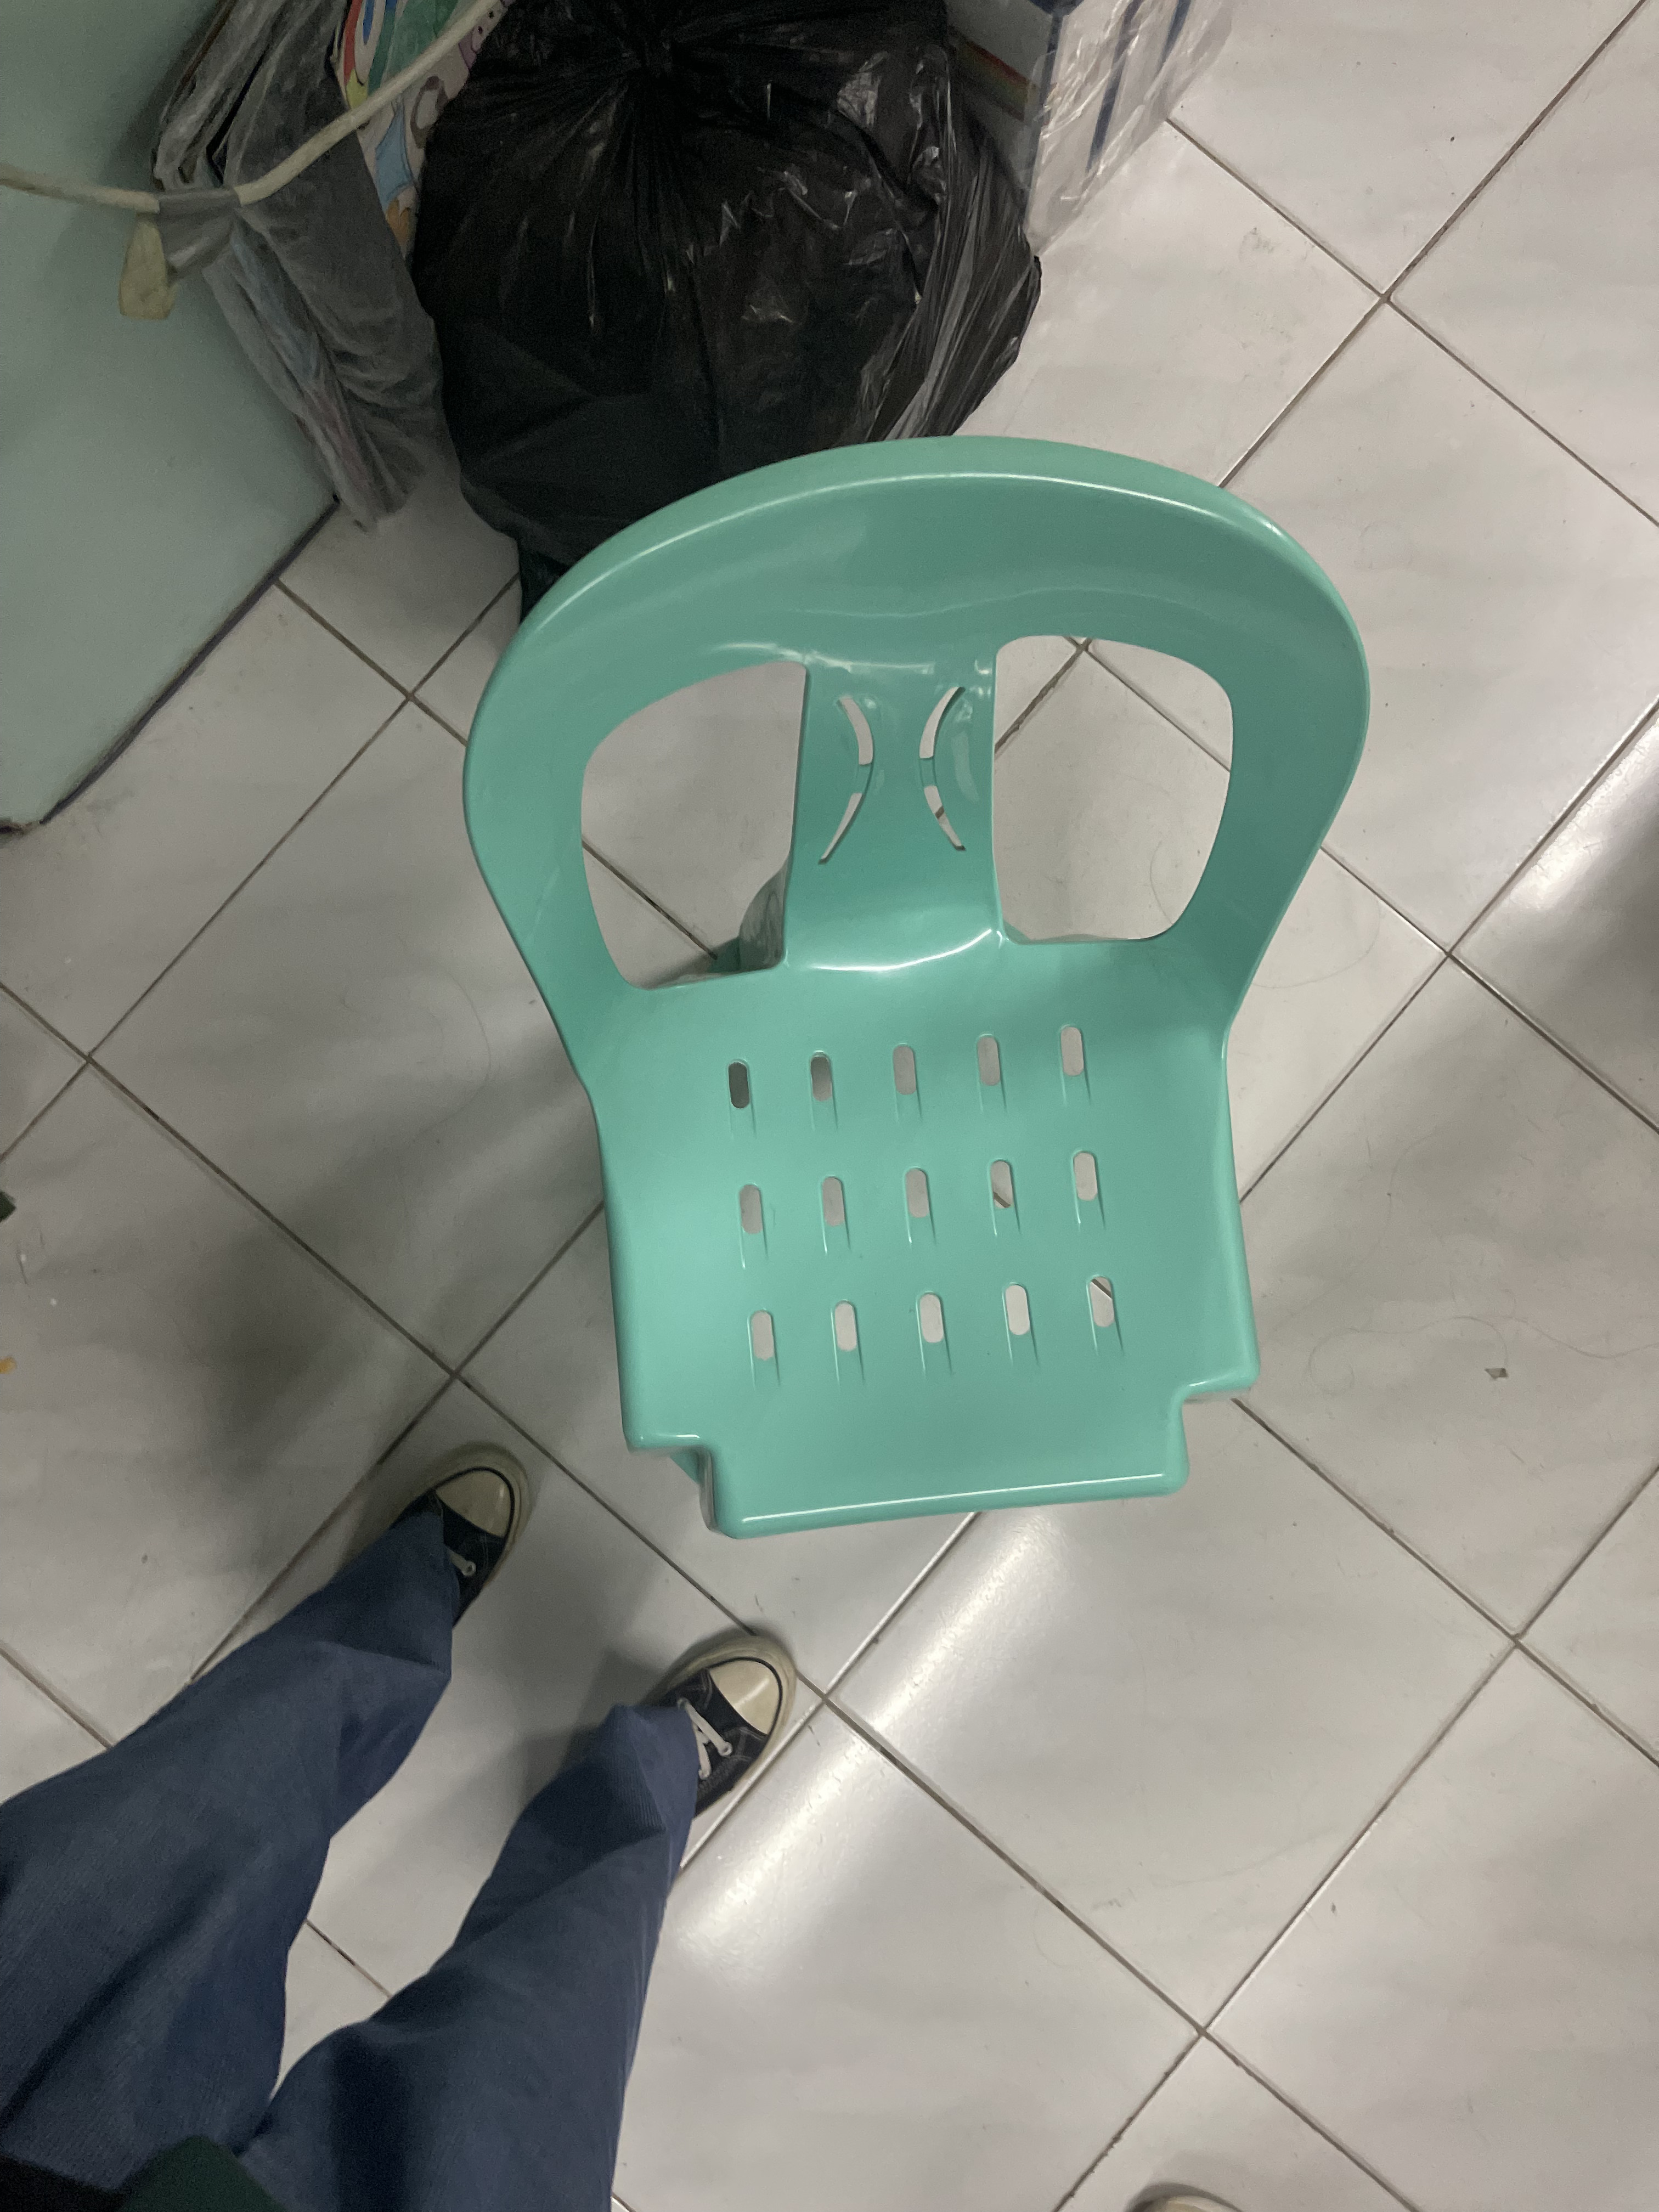chair2: (450, 427, 1382, 1576)
